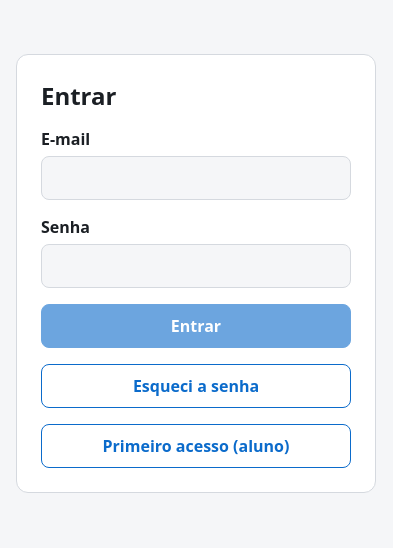
Test: primeiro acesso do aluno (ADR 0039) › o e-mail digitado no login já vem preenchido
The image size is (393, 548).
Type "ana@academia.com" into the field labelled "E-mail" at (196, 178), box [41,156,351,200]
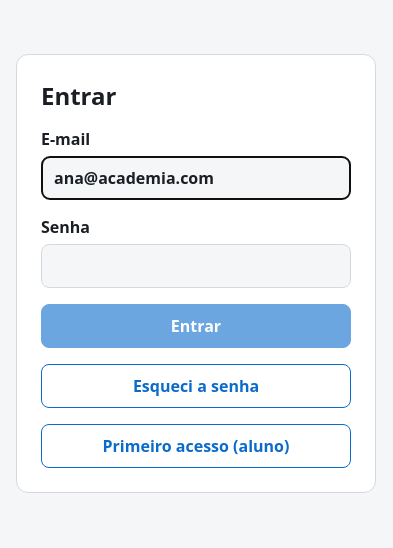
Click the button "Primeiro acesso (aluno)" at (196, 446), box [41,424,351,468]
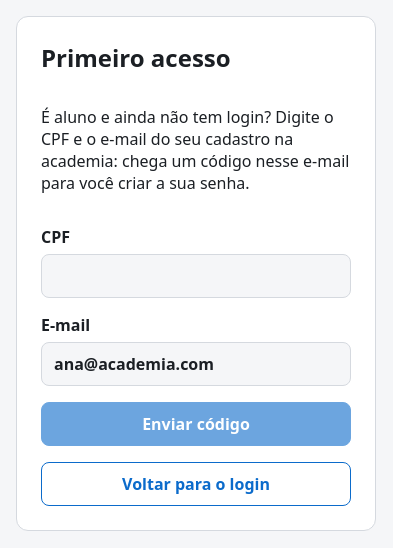
Expected: the field labelled "E-mail" holds "ana@academia.com", [41,342,351,386]
